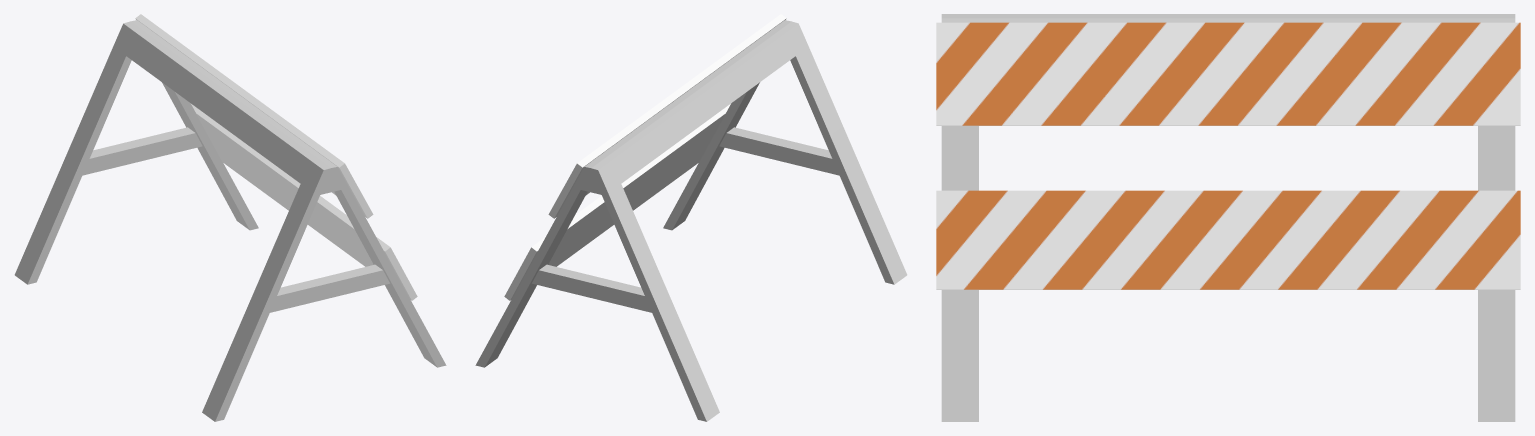
The model's file is TrafficBarrier.fbx.
The picture shows the model from 3 angles, left to right: view 1: azimuth 30°, elevation 25°; view 2: azimuth 150°, elevation 25°; view 3: azimuth 270°, elevation 25°; orthographic projection. The views are drawn at different scales.
Visible parts, largest first — view 1: pCube7; view 2: pCube7; view 3: pCube7.
Part boxes in pixels (x1=…): pCube7: x1=14, y1=14, x2=446, y2=421; pCube7: x1=475, y1=14, x2=907, y2=421; pCube7: x1=936, y1=14, x2=1520, y2=421.
Bounding box in the file's own units: 6.21 × 5.86 × 9.48.
